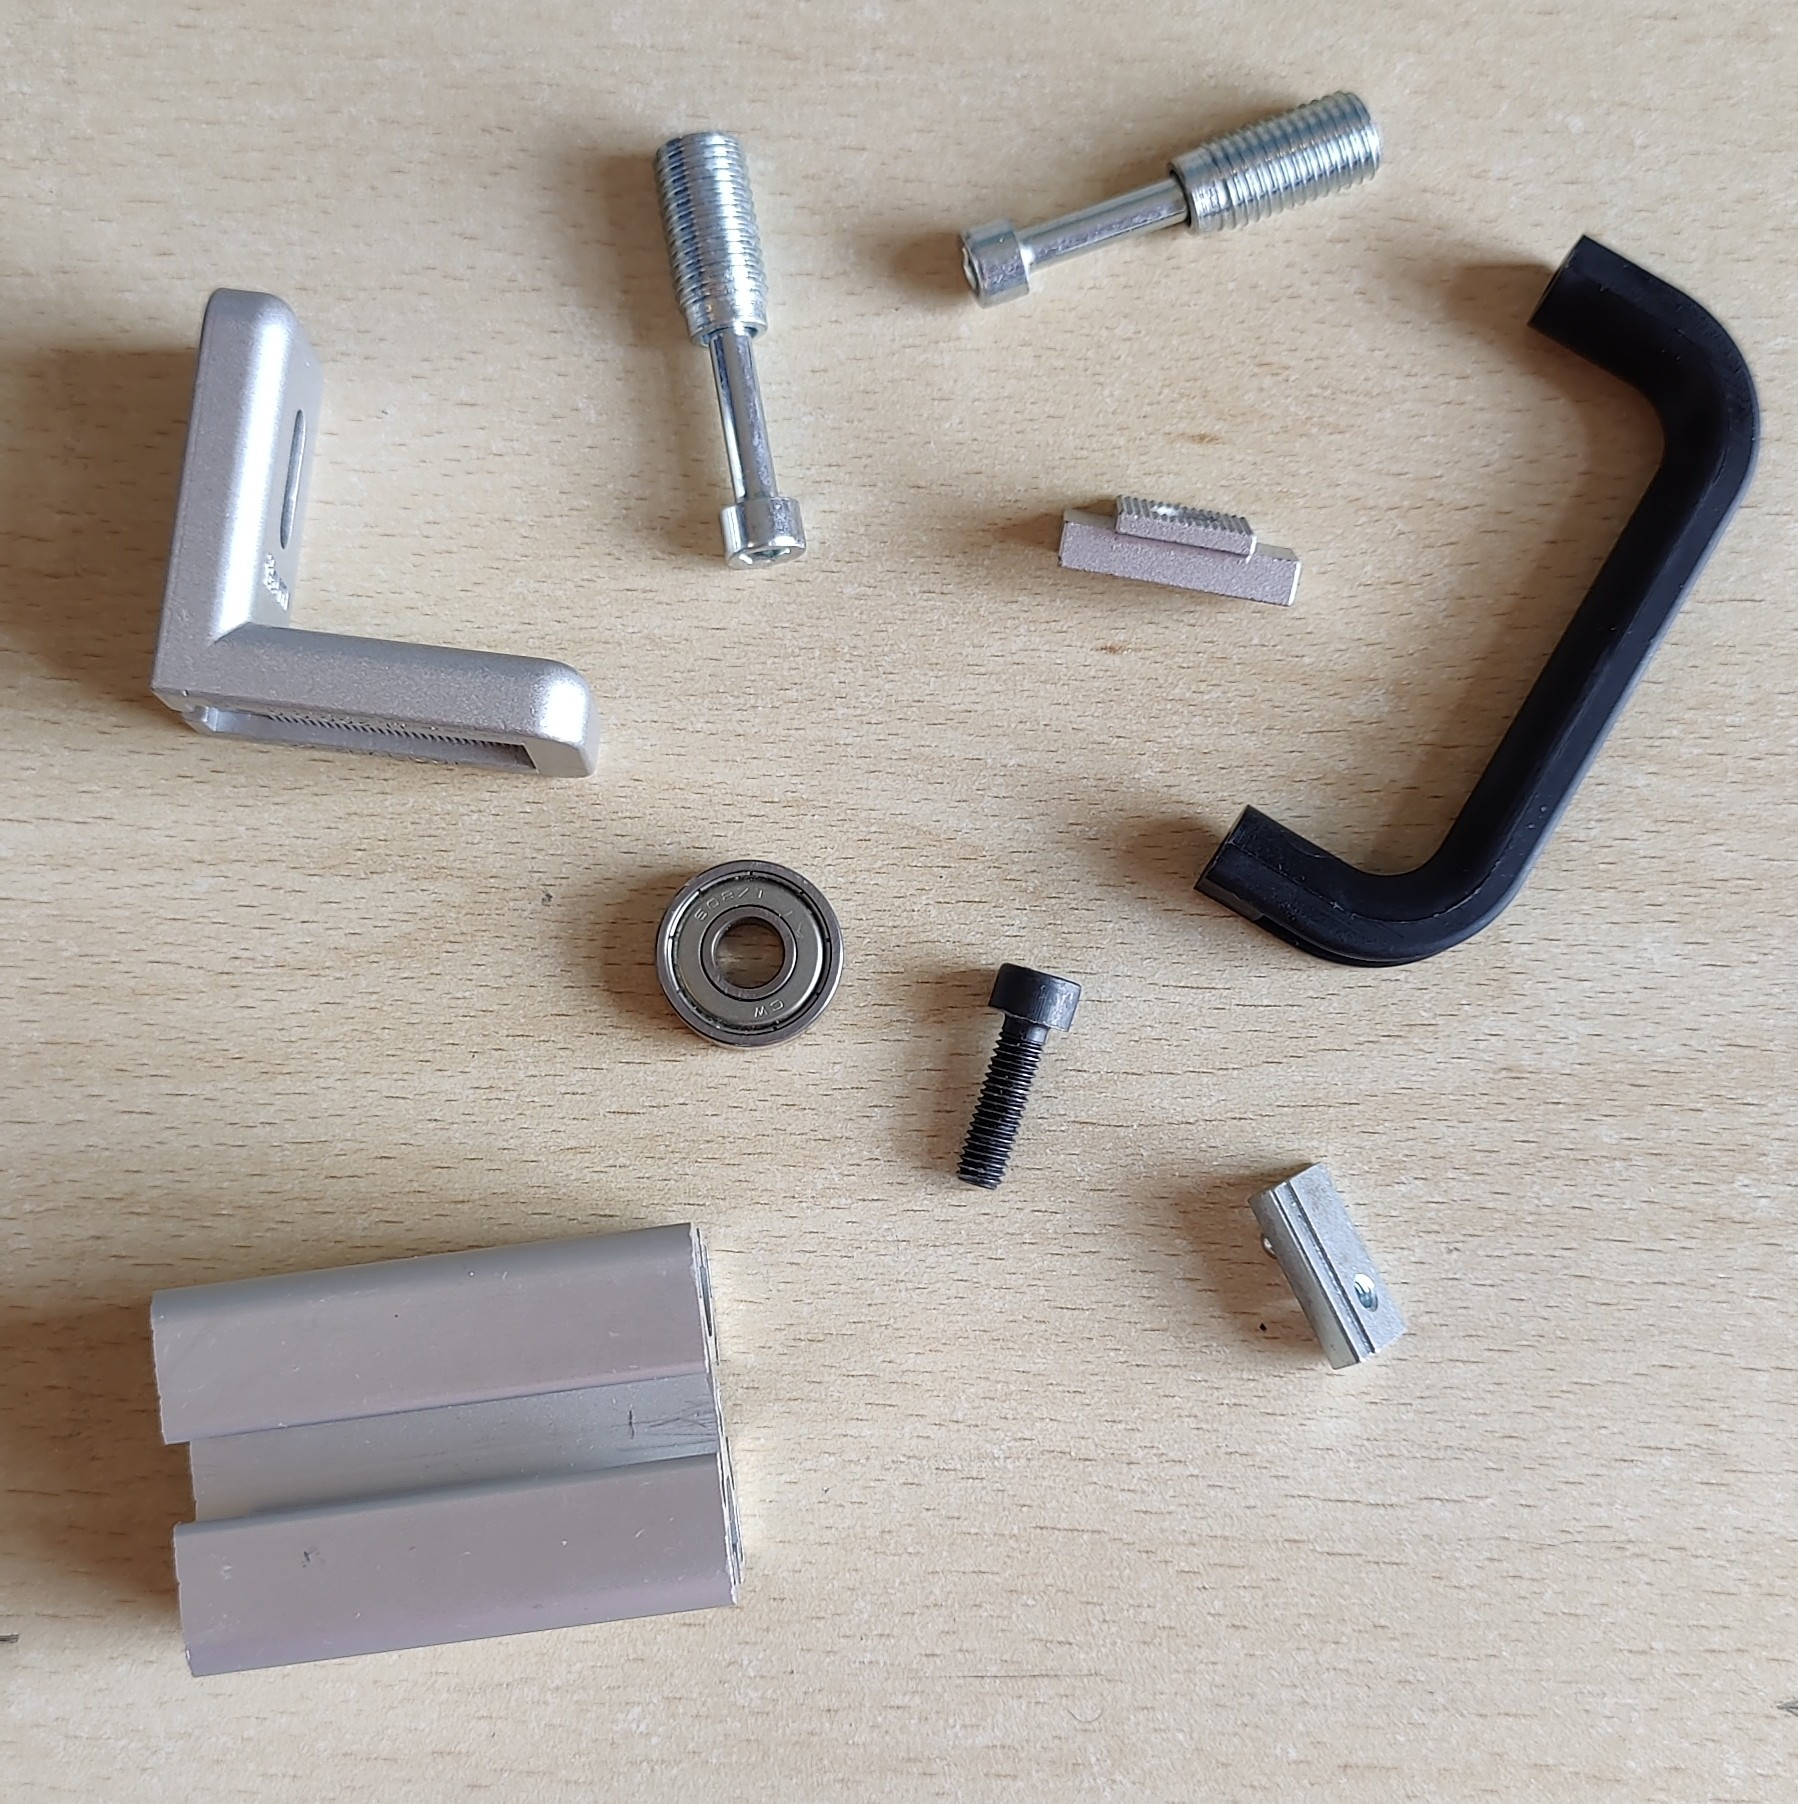Aluminium Extension: (147, 1218, 748, 1679)
Ball Bearing: (652, 854, 845, 1052)
Multiwinkel: (145, 285, 604, 783)
Pull Handle: (1195, 230, 1767, 971)
Shoulder Socket Head Cap Screw: (953, 86, 1385, 311), (647, 127, 810, 573)
Socket Head Cap Screw: (953, 956, 1083, 1188)
T Nut Square: (1052, 491, 1302, 611)
T Spring Nut: (1246, 1159, 1411, 1373)
